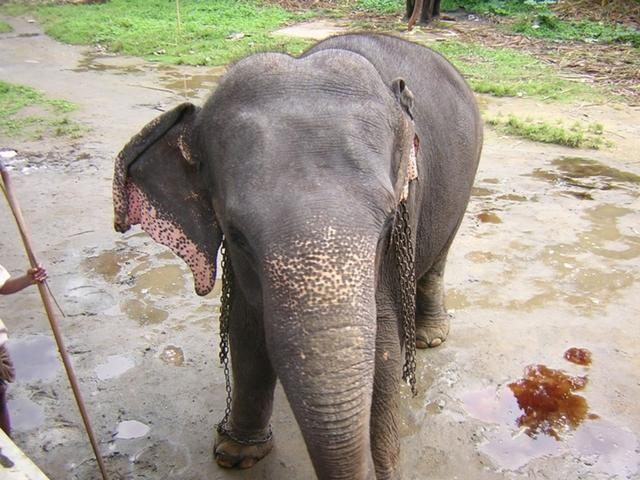elephant: (71, 9, 555, 480)
